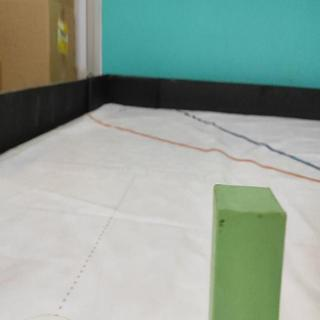greenbox: (209, 182, 289, 320)
